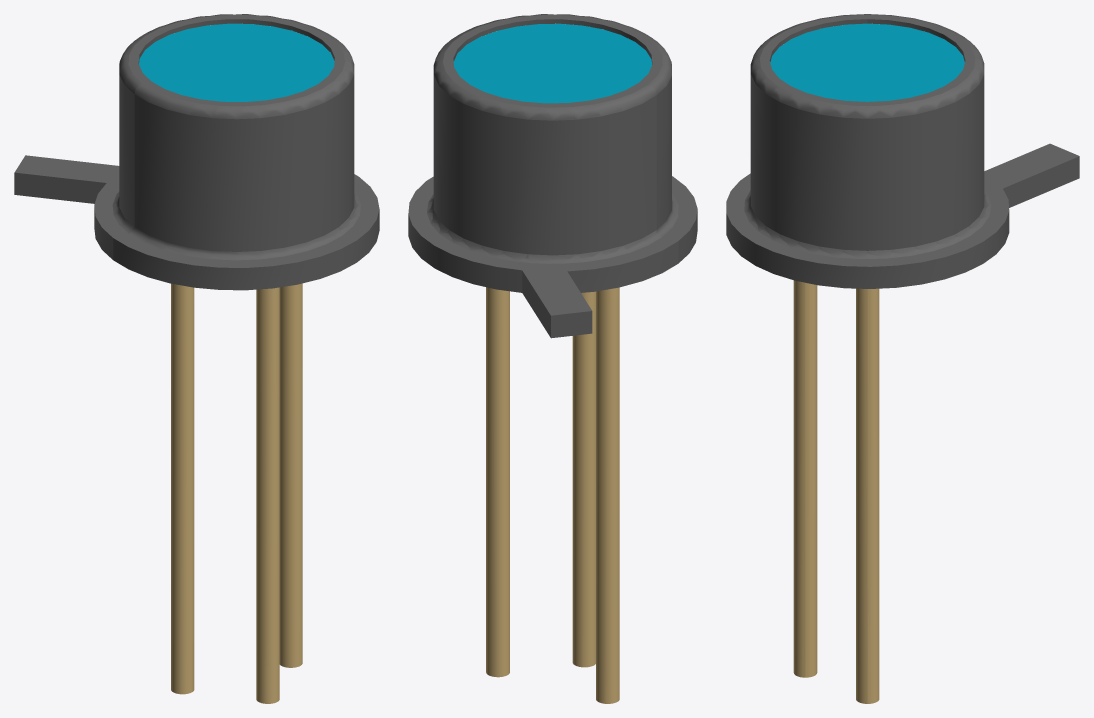
The model's file is kc-to-52-3_window.glb.
3 views of the same model, side by side, from view 1: azimuth 30°, elevation 25°; view 2: azimuth 150°, elevation 25°; view 3: azimuth 270°, elevation 25° (orthographic).
Parts seen in each view (by area): view 1: 0.16666666666666666_0.16666666666666666_0.16666666666666666_, 0.75_0.5_0.25_0.9, 0_0.3333333333333333_0.5_0; view 2: 0.16666666666666666_0.16666666666666666_0.16666666666666666_, 0.75_0.5_0.25_0.9, 0_0.3333333333333333_0.5_0; view 3: 0.16666666666666666_0.16666666666666666_0.16666666666666666_, 0.75_0.5_0.25_0.9, 0_0.3333333333333333_0.5_0.
Part boxes in pixels (bbox=[...]): 0.16666666666666666_0.16666666666666666_0.16666666666666666_: bbox=[14, 14, 379, 290]; 0.75_0.5_0.25_0.9: bbox=[171, 283, 302, 703]; 0_0.3333333333333333_0.5_0: bbox=[139, 23, 334, 101]; 0.16666666666666666_0.16666666666666666_0.16666666666666666_: bbox=[408, 14, 697, 338]; 0.75_0.5_0.25_0.9: bbox=[486, 287, 619, 703]; 0_0.3333333333333333_0.5_0: bbox=[453, 23, 651, 103]; 0.16666666666666666_0.16666666666666666_0.16666666666666666_: bbox=[726, 14, 1079, 288]; 0.75_0.5_0.25_0.9: bbox=[793, 280, 879, 703]; 0_0.3333333333333333_0.5_0: bbox=[770, 23, 964, 101].
Size of the model in its own units: 0.5964 by 1.38 by 0.7225.
